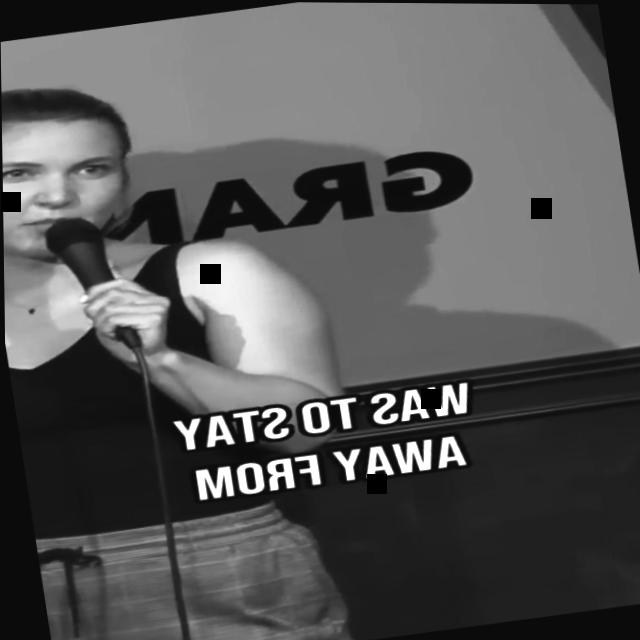NO-Mask: (1, 107, 151, 266)
